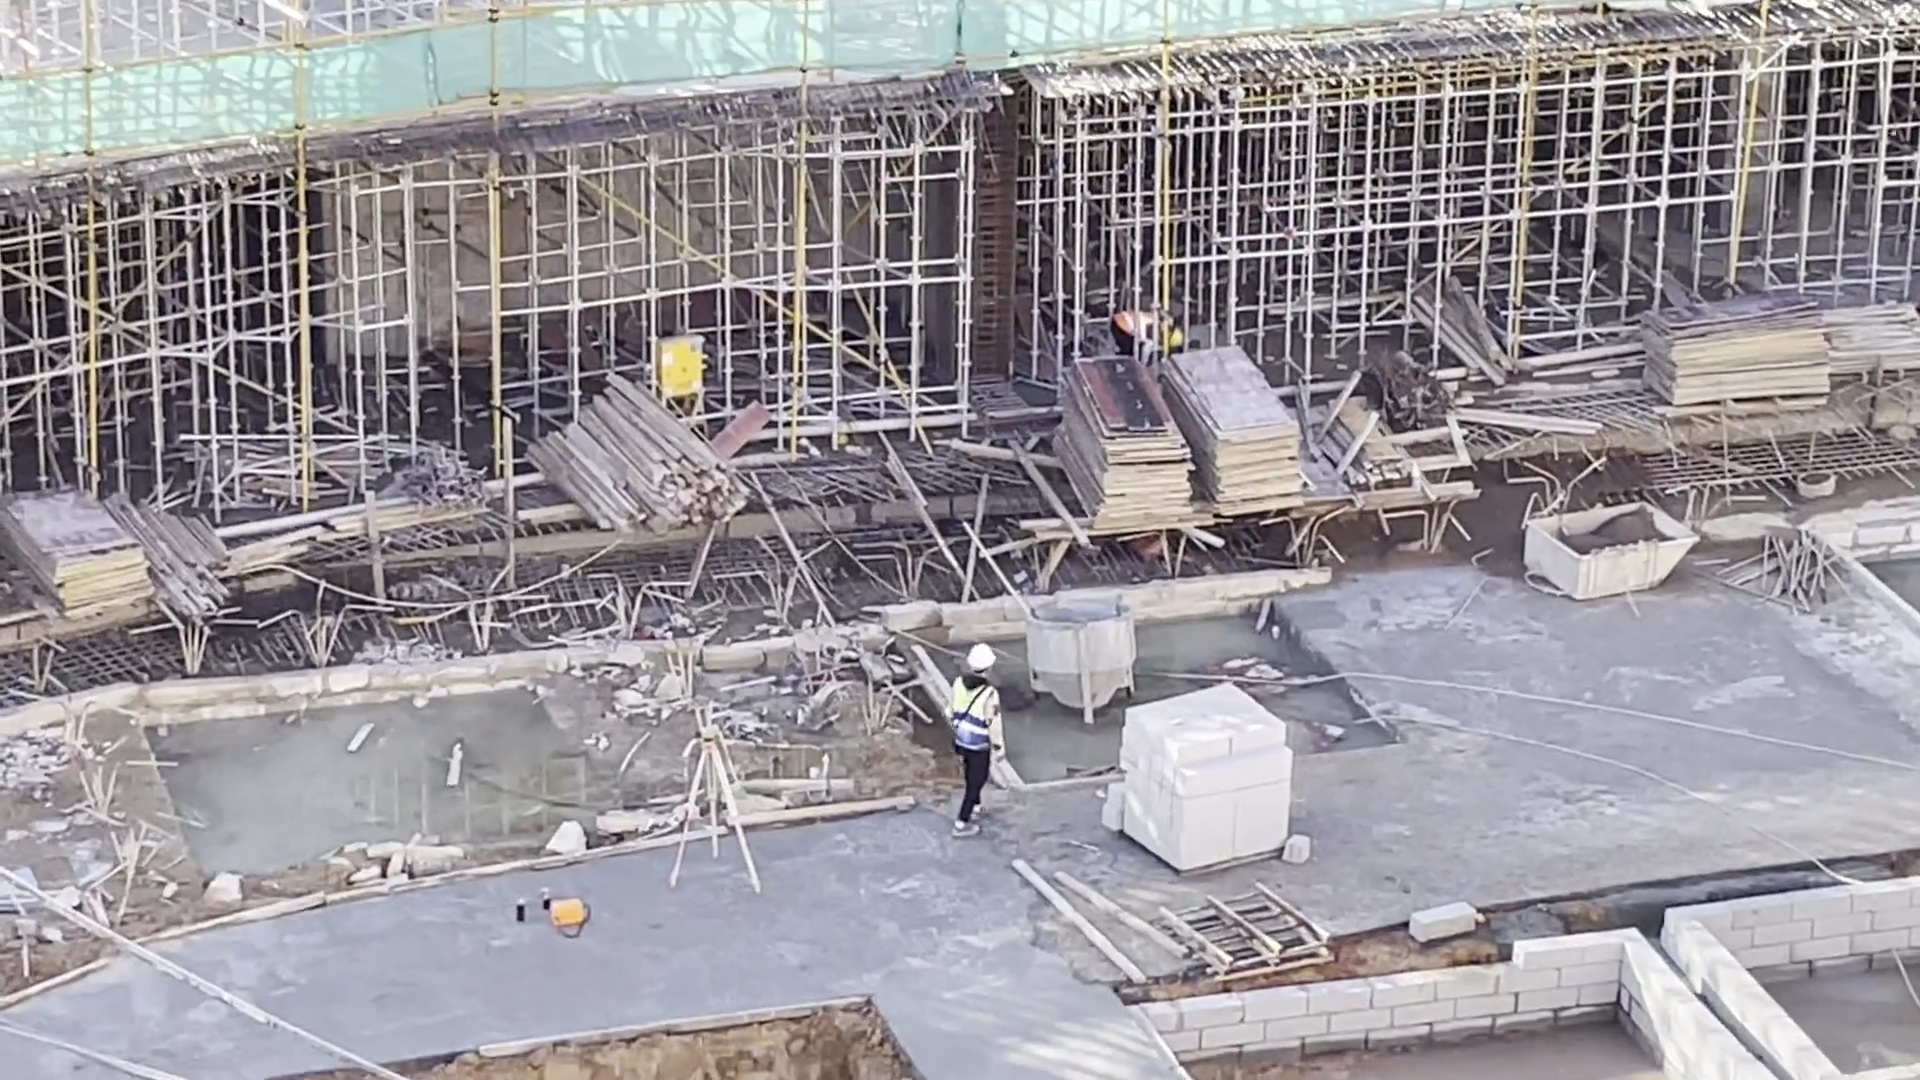board: (1054, 353, 1195, 534), (1632, 287, 1837, 412), (1169, 342, 1308, 520), (10, 486, 156, 627)
brick: (1102, 682, 1295, 875)
ebox: (655, 334, 706, 402)
helmet: (961, 640, 998, 673)
hopper: (1522, 494, 1704, 600), (1030, 591, 1136, 726)
person: (943, 638, 1004, 840)
vest: (957, 680, 995, 751)
wood: (530, 369, 752, 532), (162, 502, 233, 622)
